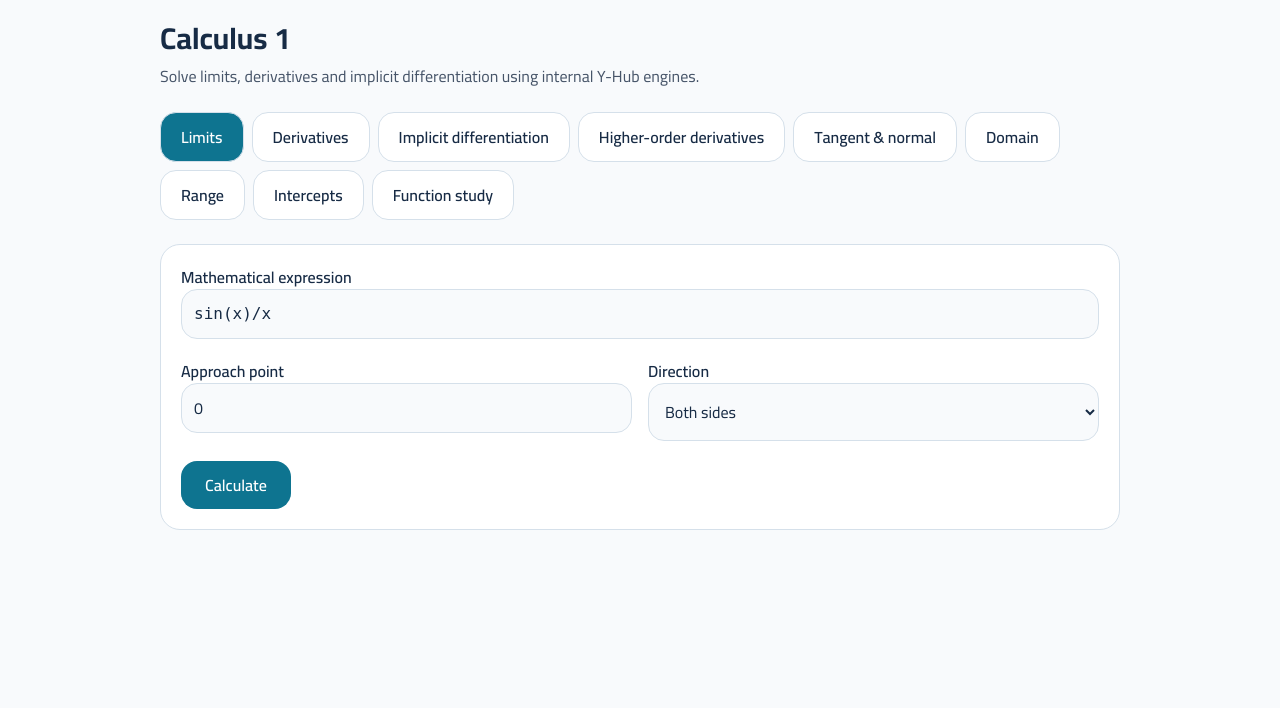
Test: Calculus 1 implicit differentiation UI › solves an implicit equation from the tab
What coordinates should you click on to do the following:
click the tab "Implicit differentiation"
I would click on:
 (474, 137)
Its box is [378,112,570,162].
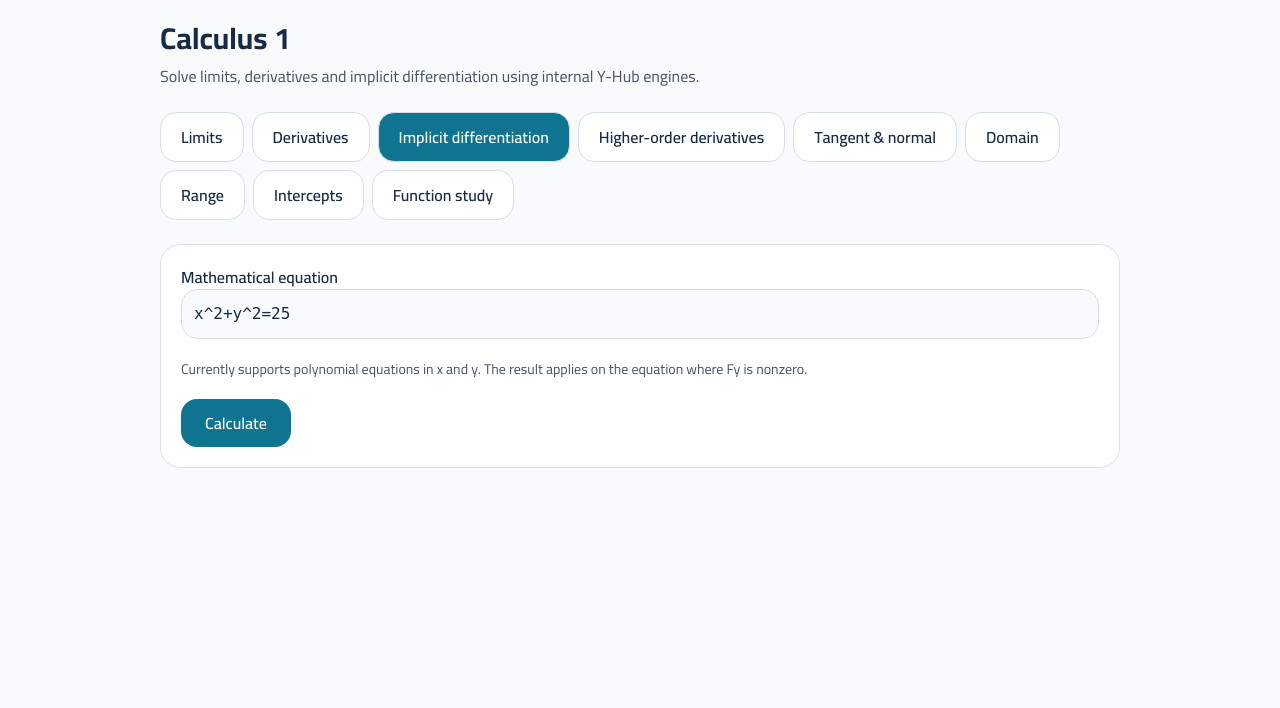
Expected: the field labelled "Mathematical equation" holds "x^2+y^2=25", [181,289,1099,339]
What coordinates should you click on to do the following:
click the button "Calculate"
I would click on:
 (236, 423)
Its box is [181,399,291,447].
(page scrolled)
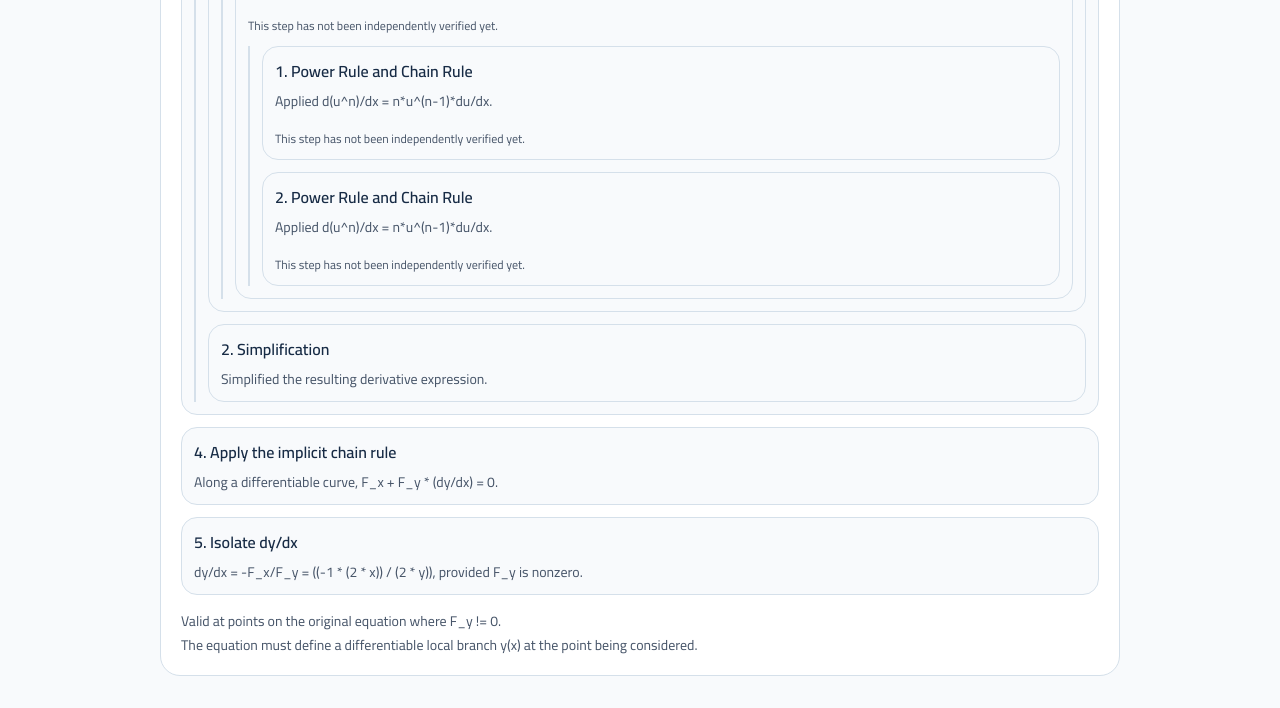
Expected: the heading "4. Apply the implicit chain rule" is shown, [194,437,396,467]
